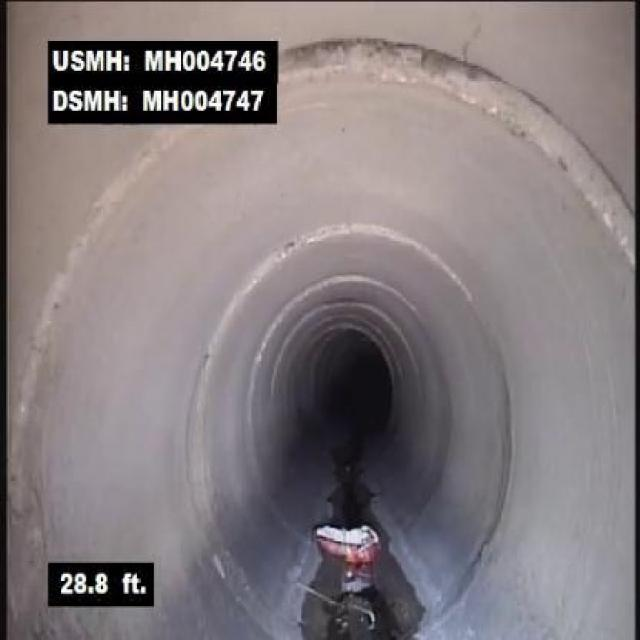Joint offset: (475, 71, 634, 231), (280, 35, 465, 100)
